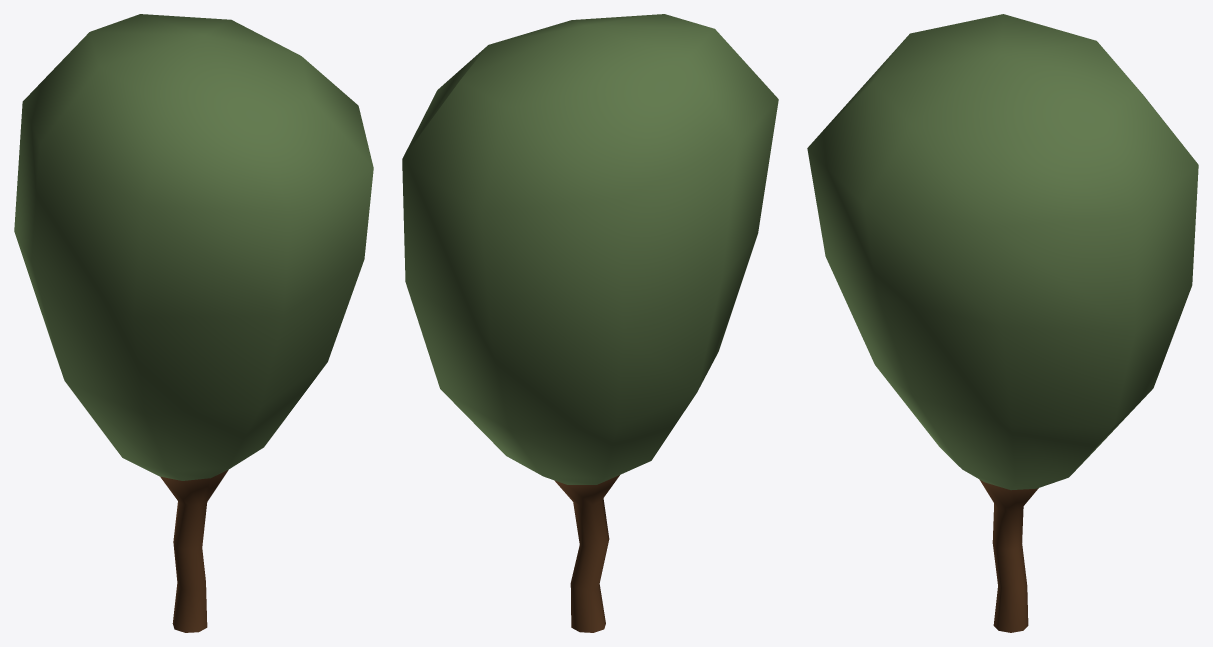
The model's file is Tree1.fbx.
The picture shows the model from 3 angles, left to right: view 1: azimuth 30°, elevation 25°; view 2: azimuth 150°, elevation 25°; view 3: azimuth 270°, elevation 25°; orthographic projection. The views are drawn at different scales.
Parts seen in each view (by area): view 1: Tree1; view 2: Tree1; view 3: Tree1.
Part boxes in pixels (x1,y1,x2,y2): Tree1: (14, 14, 373, 632); Tree1: (402, 14, 778, 632); Tree1: (807, 14, 1198, 632).
Size of the model in its own units: 491 by 897 by 554.
